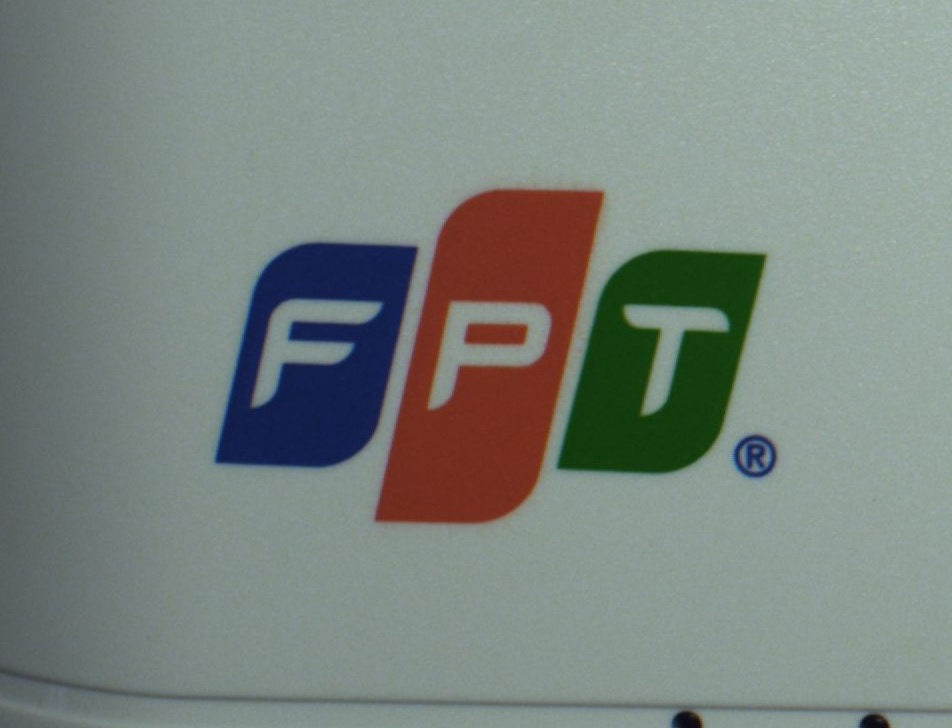BR_FPT: (155, 176, 783, 524)
